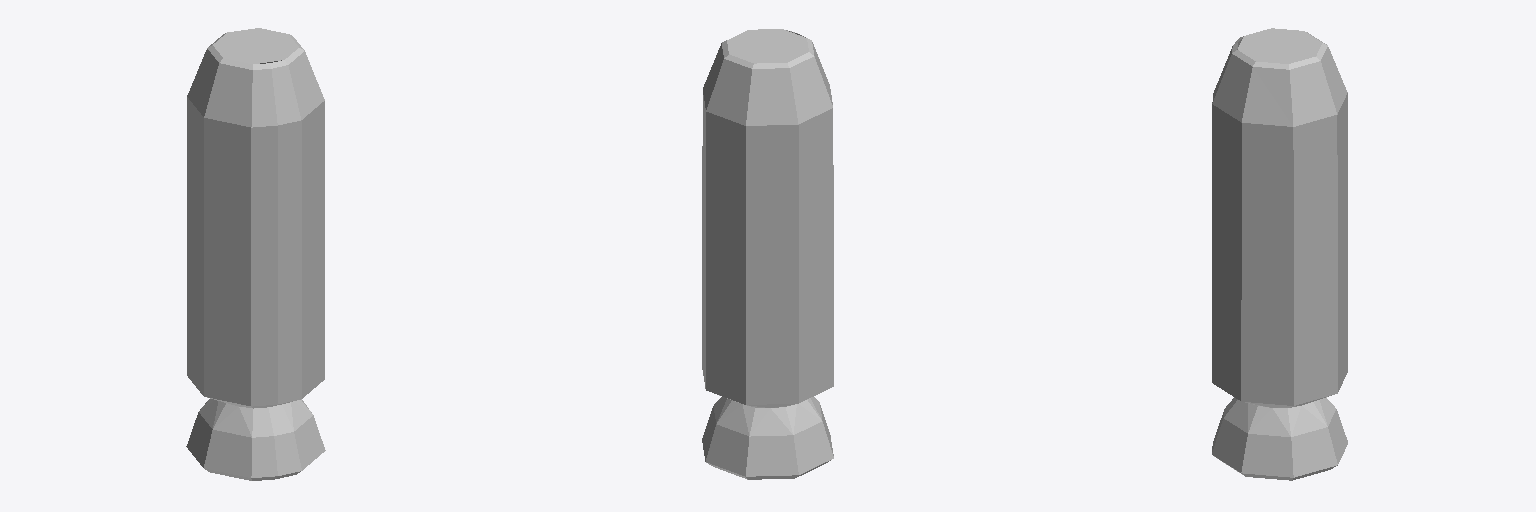
Rendered from pharah_rocket.obj.
3 renders of one model, left to right at view 1: azimuth 30°, elevation 25°; view 2: azimuth 150°, elevation 25°; view 3: azimuth 270°, elevation 25°, orthographic.
Parts seen in each view (by area): view 1: Submesh_0.255.F7C8A7ACB9CE8370; view 2: Submesh_0.255.F7C8A7ACB9CE8370; view 3: Submesh_0.255.F7C8A7ACB9CE8370.
Part boxes in pixels (bbox=[...]): Submesh_0.255.F7C8A7ACB9CE8370: bbox=[186, 28, 325, 480]; Submesh_0.255.F7C8A7ACB9CE8370: bbox=[702, 29, 833, 479]; Submesh_0.255.F7C8A7ACB9CE8370: bbox=[1212, 28, 1347, 480].
Bounding box in the file's own units: 0.0321 × 0.1086 × 0.0321.